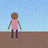person: (8, 12, 21, 38)
